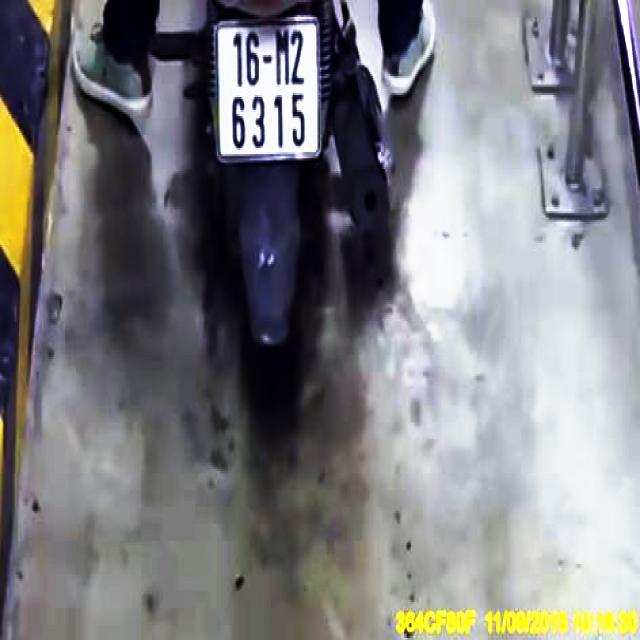license_plate: (218, 16, 320, 156)
